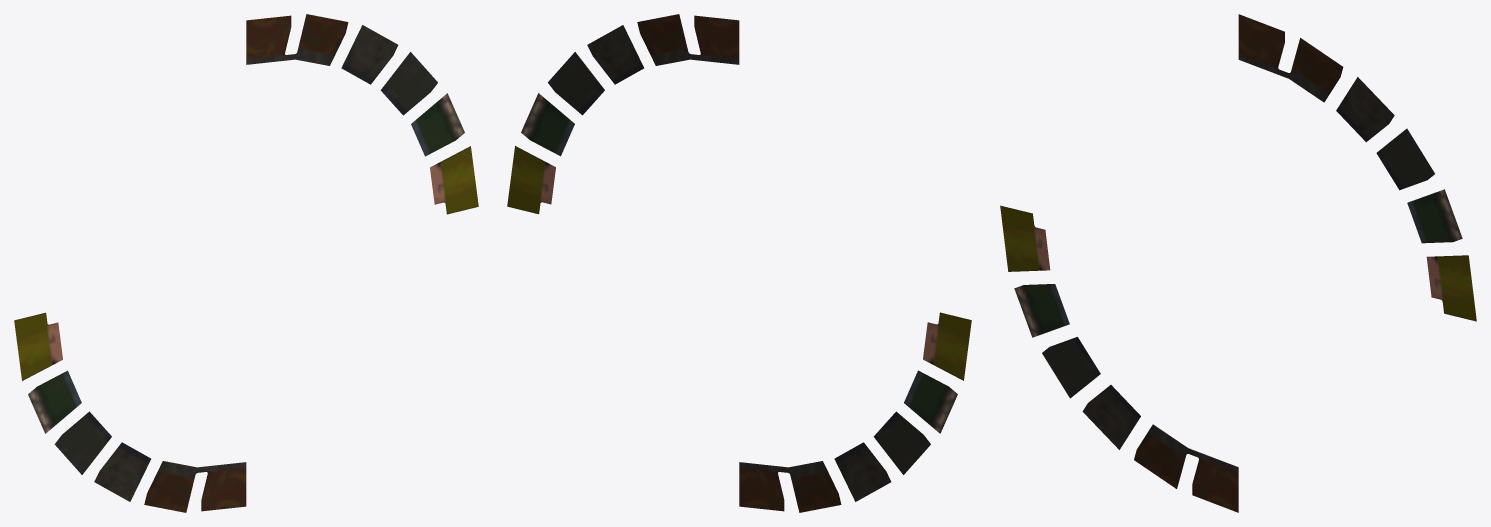
3 renders of one model, left to right at view 1: azimuth 30°, elevation 25°; view 2: azimuth 150°, elevation 25°; view 3: azimuth 330°, elevation 25°, orthographic. The views are drawn at different scales.
Visible parts, largest first — view 1: T1L3M001_23; view 2: T1L3M001_23; view 3: T1L3M001_23.
Boxes of the visible parts, bbox=[...] form: T1L3M001_23: bbox=[14, 14, 478, 512]; T1L3M001_23: bbox=[507, 14, 971, 512]; T1L3M001_23: bbox=[1000, 14, 1476, 512].
Size of the model in its own units: 2.06 by 2.06 by 0.000977.
